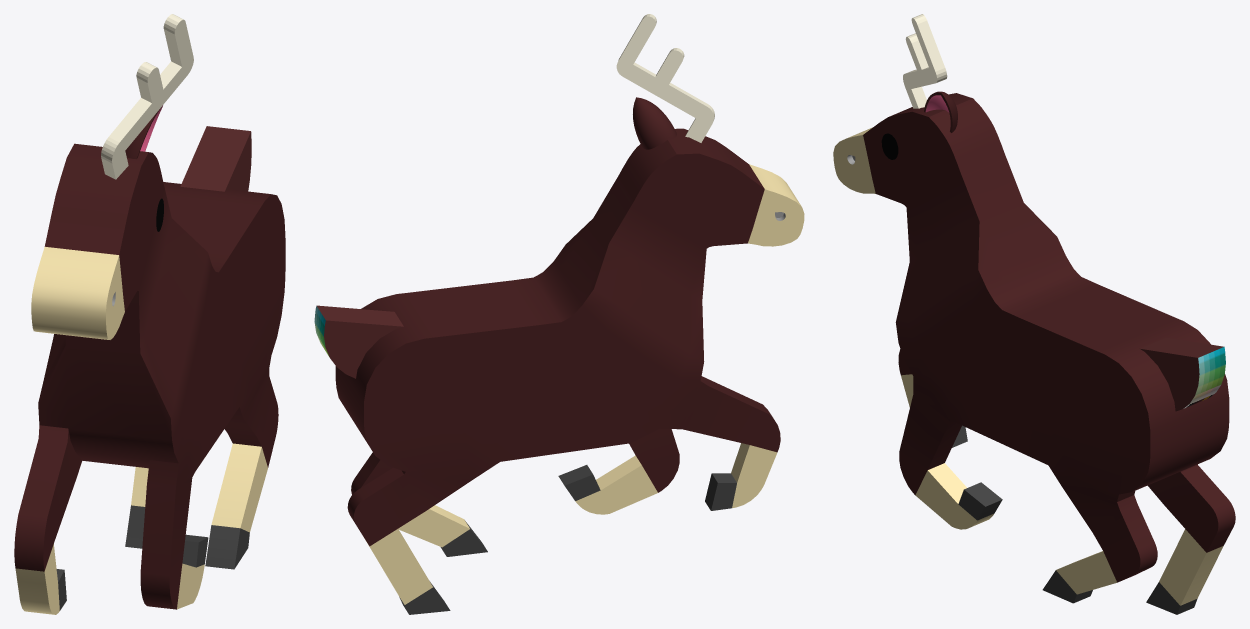
The model's file is deer.glb.
The picture shows the model from 3 angles, left to right: view 1: azimuth 30°, elevation 25°; view 2: azimuth 150°, elevation 25°; view 3: azimuth 270°, elevation 25°; orthographic projection. The views are drawn at different scales.
Parts seen in each view (by area): view 1: Plane.115, Cube.6219, Cube.6221; view 2: Plane.115, Cube.6219, Cube.6221; view 3: Plane.115, Cube.6221, Cube.6219.
Boxes of the visible parts, x1,y1,x2,y2 form: Plane.115: (14, 143, 285, 614); Cube.6219: (101, 14, 193, 179); Cube.6221: (180, 126, 251, 191); Plane.115: (335, 128, 804, 614); Cube.6219: (616, 14, 714, 149); Cube.6221: (314, 305, 403, 378); Plane.115: (833, 93, 1235, 614); Cube.6221: (1140, 337, 1225, 411); Cube.6219: (903, 14, 957, 132).
Size of the model in its own units: 1.63 by 2.45 by 1.65.
1 material, 1 textured.
